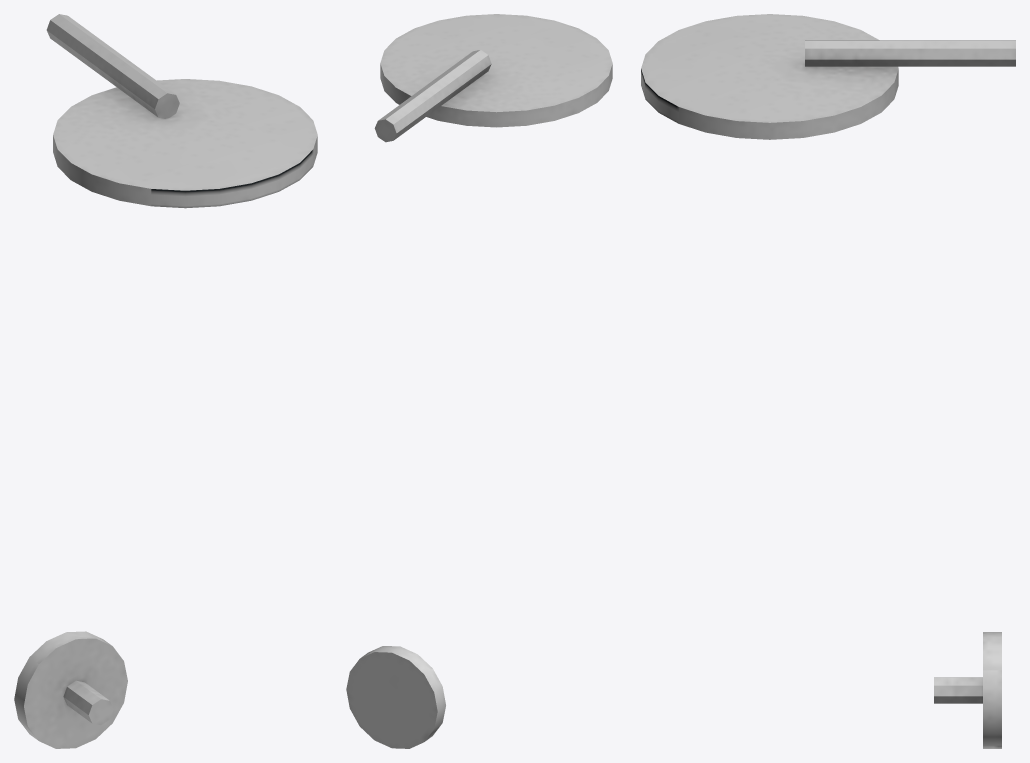
The model's file is H_ShowerSet.fbx.
3 views of the same model, side by side, from view 1: azimuth 30°, elevation 25°; view 2: azimuth 150°, elevation 25°; view 3: azimuth 270°, elevation 25° (orthographic). The views are drawn at different scales.
Parts seen in each view (by area): view 1: H_ShowerSet; view 2: H_ShowerSet; view 3: H_ShowerSet.
Boxes of the visible parts, x1,y1,x2,y2 form: H_ShowerSet: [14, 14, 317, 748]; H_ShowerSet: [346, 14, 612, 748]; H_ShowerSet: [641, 14, 1015, 748].
Size of the model in its own units: 110 by 331 by 160.
1 material, 1 textured.
